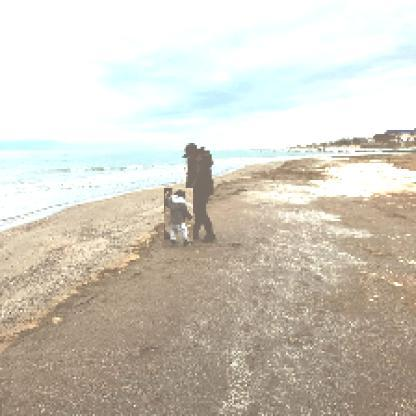child: (165, 189, 195, 249)
